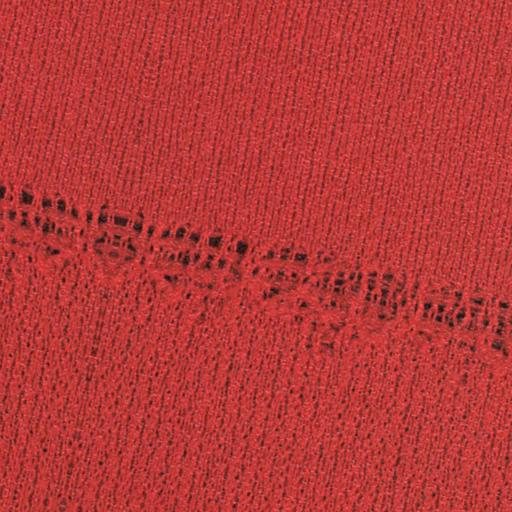slub: (3, 180, 512, 373)
